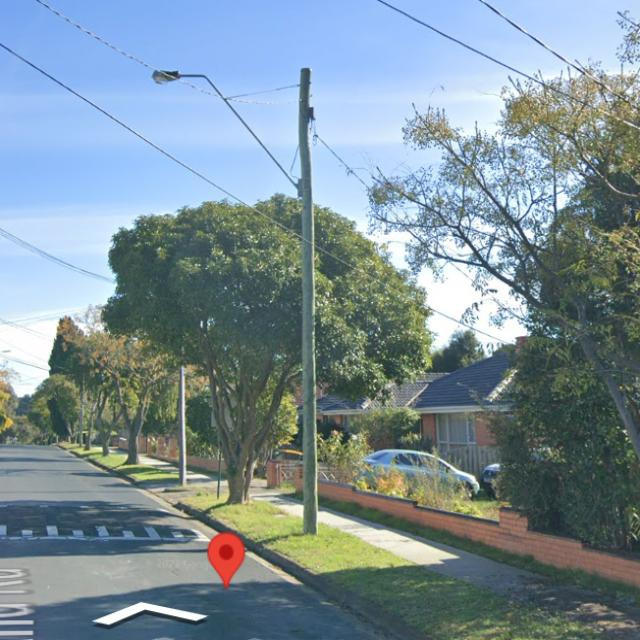streetlight: (152, 69, 303, 197)
timber-pole: (296, 67, 319, 535)
top mount suitable pole: (152, 66, 318, 535)
